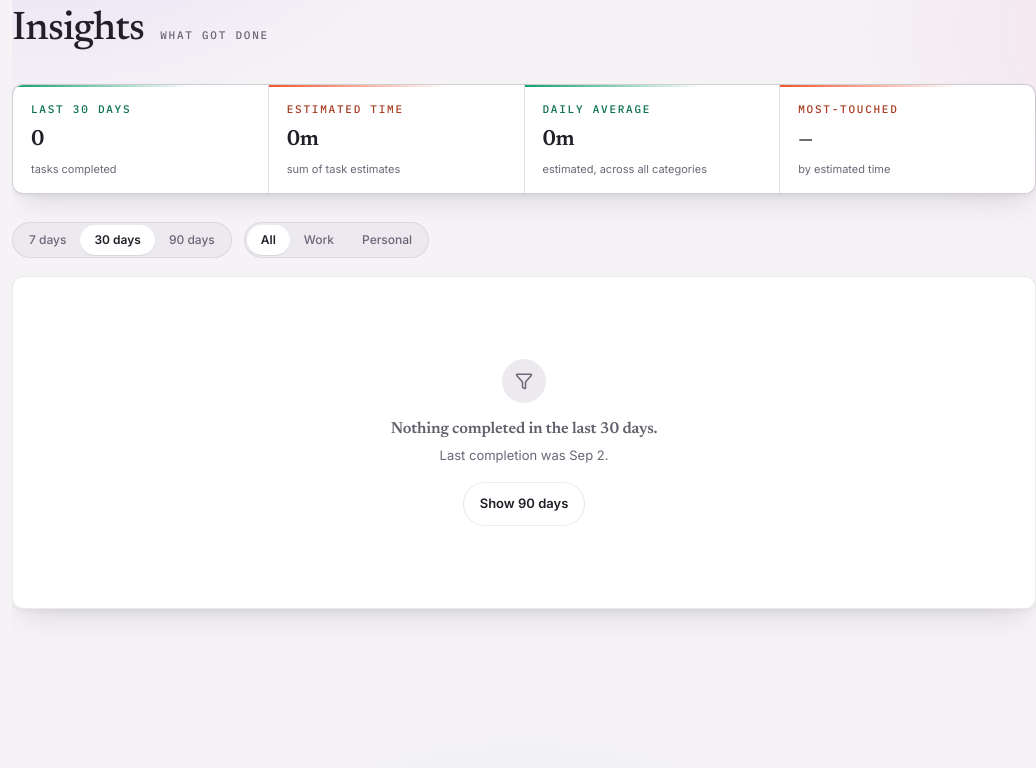
it: Insights › (f) names the last completion and offers 90 days when the range is empty (chunk 70)
The image size is (1036, 768).
Expected: the text "Last completion was Sep 2." is shown, [440,447,608,463]
What coordinates should you click on to do the following:
click the button "Show 90 days"
I would click on:
 (524, 504)
Its box is [463,482,585,526].
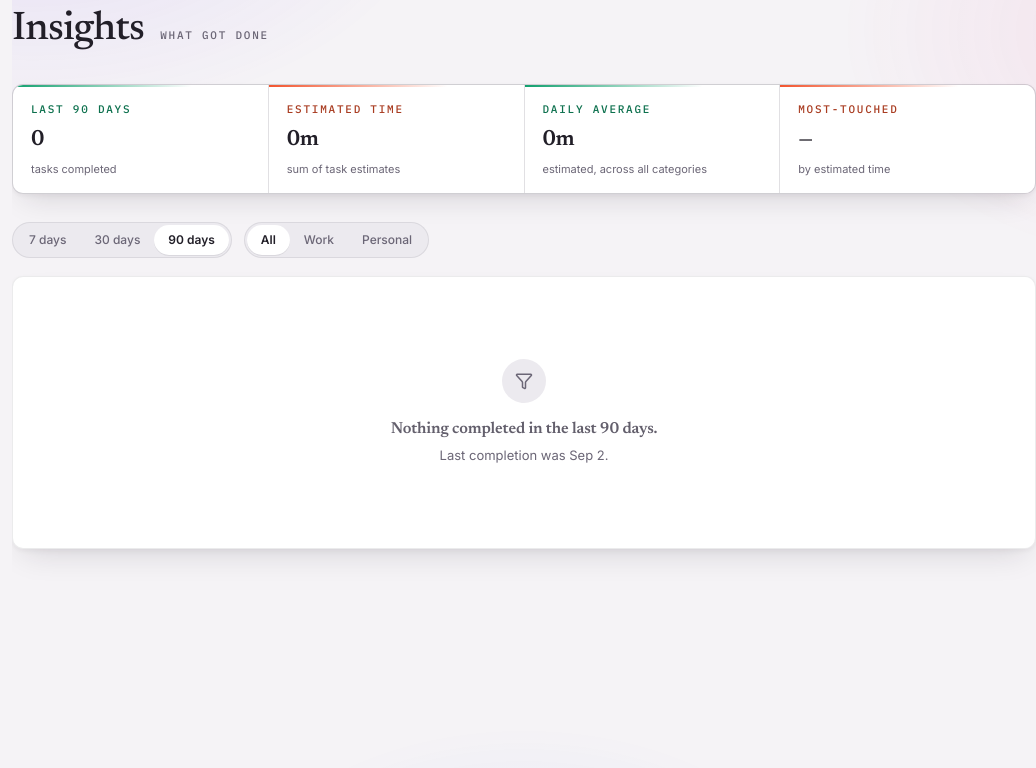
Result: the button "Show 90 days" is gone
